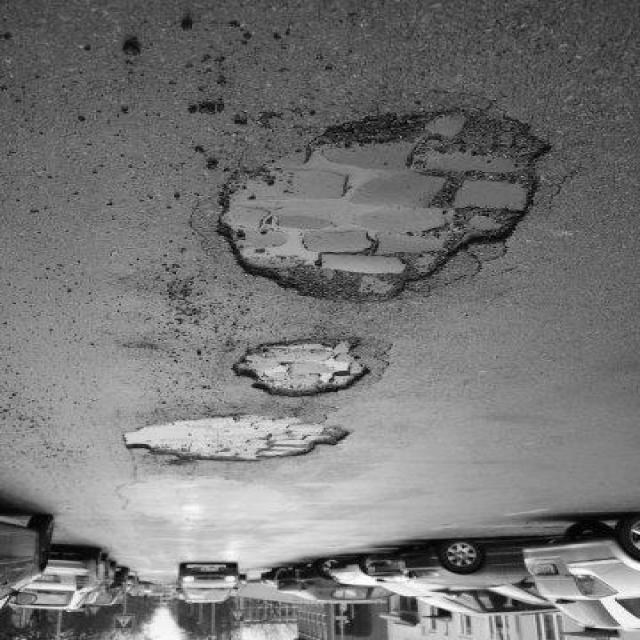jalan retak: (108, 472, 148, 521)
lubang: (184, 104, 564, 310), (106, 406, 368, 476), (221, 328, 395, 404)
